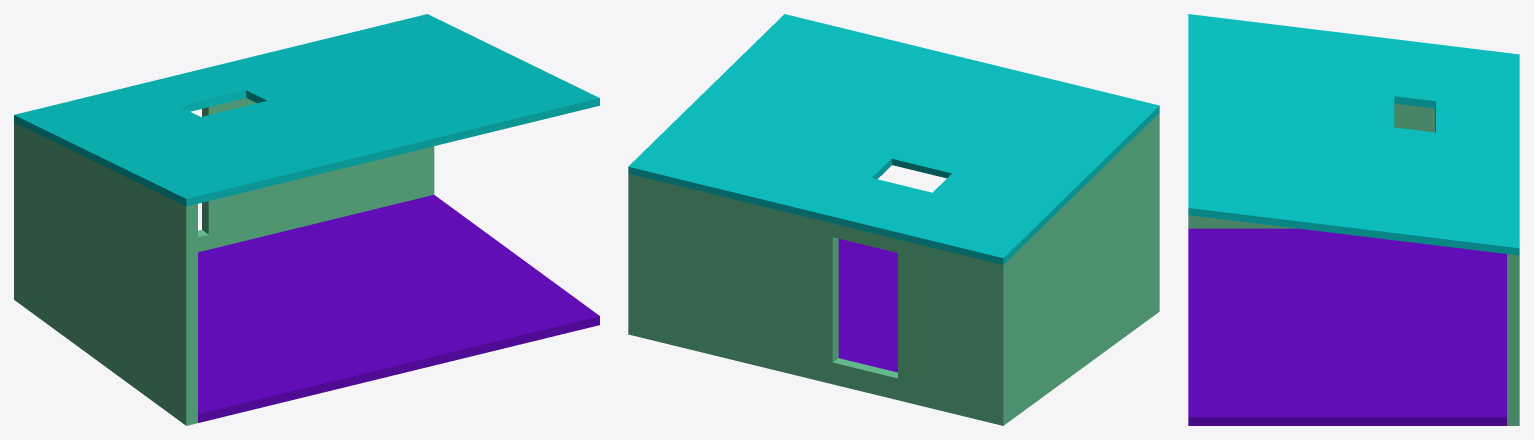
3 views of the same model, side by side, from view 1: azimuth 30°, elevation 25°; view 2: azimuth 150°, elevation 25°; view 3: azimuth 270°, elevation 25° (orthographic). The views are drawn at different scales.
Visible parts, largest first — view 1: Mesh (×9); view 2: Mesh (×8); view 3: Mesh (×7).
Boxes of the visible parts, x1=… form: Mesh (×9): x1=14, y1=14, x2=599, y2=425; Mesh (×8): x1=628, y1=14, x2=1159, y2=425; Mesh (×7): x1=1188, y1=14, x2=1519, y2=425.
Bounding box in the file's own units: 7200 × 5200 × 3776.
